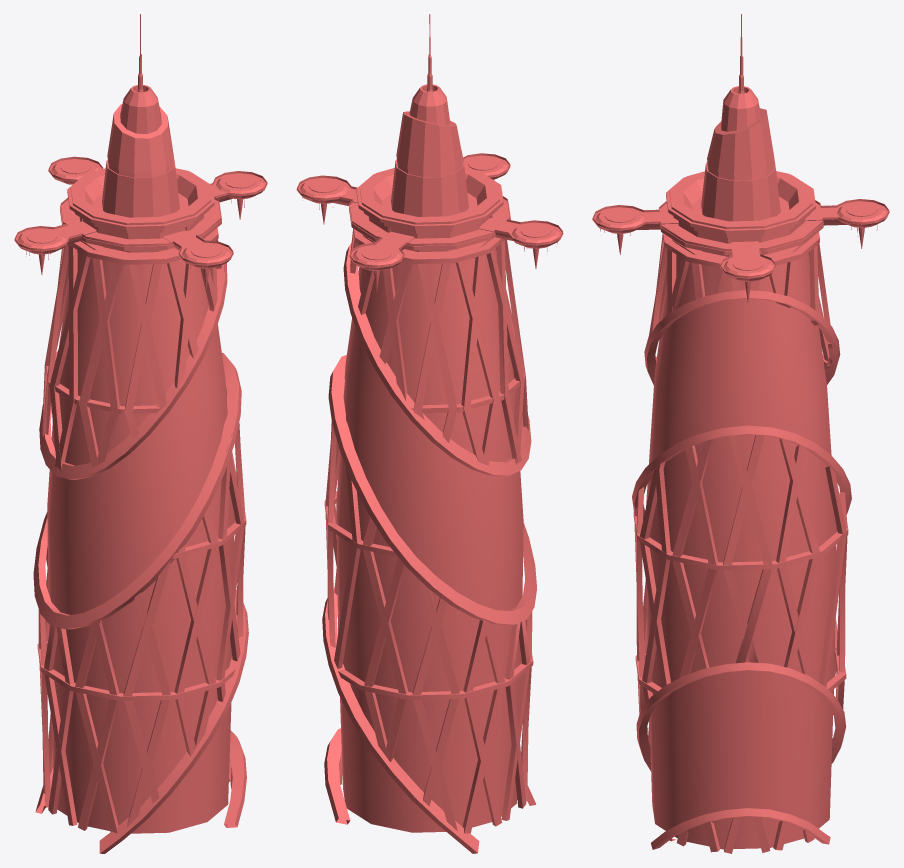
The model's file is Building.6.fbx.
3 renders of one model, left to right at view 1: azimuth 30°, elevation 25°; view 2: azimuth 150°, elevation 25°; view 3: azimuth 270°, elevation 25°, orthographic.
Visible parts, largest first — view 1: Building_6; view 2: Building_6; view 3: Building_6.
Boxes of the visible parts, bbox=[...] form: Building_6: bbox=[14, 14, 267, 853]; Building_6: bbox=[296, 14, 563, 853]; Building_6: bbox=[592, 14, 889, 853].
Bounding box in the file's own units: 4153 × 12584 × 4153.
